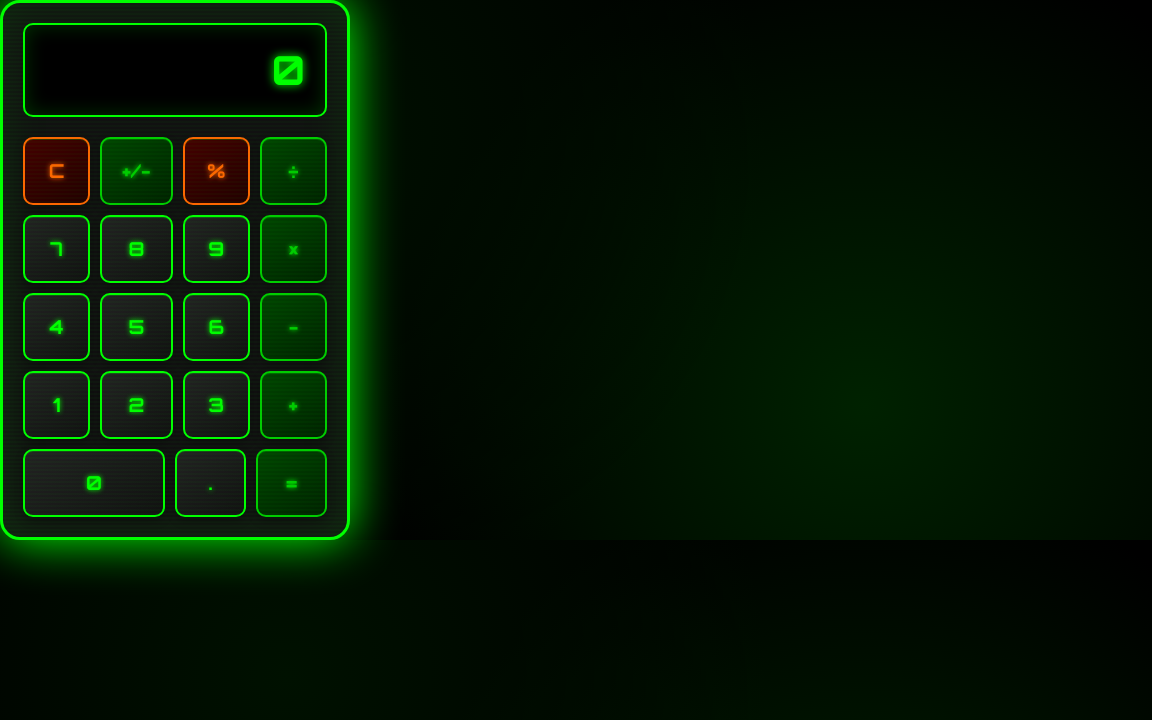
Test case: Calculator Component › handles +/- operation correctly
Click the button "5" at coordinates (136, 327), box x1=100 y1=293 x2=173 y2=361
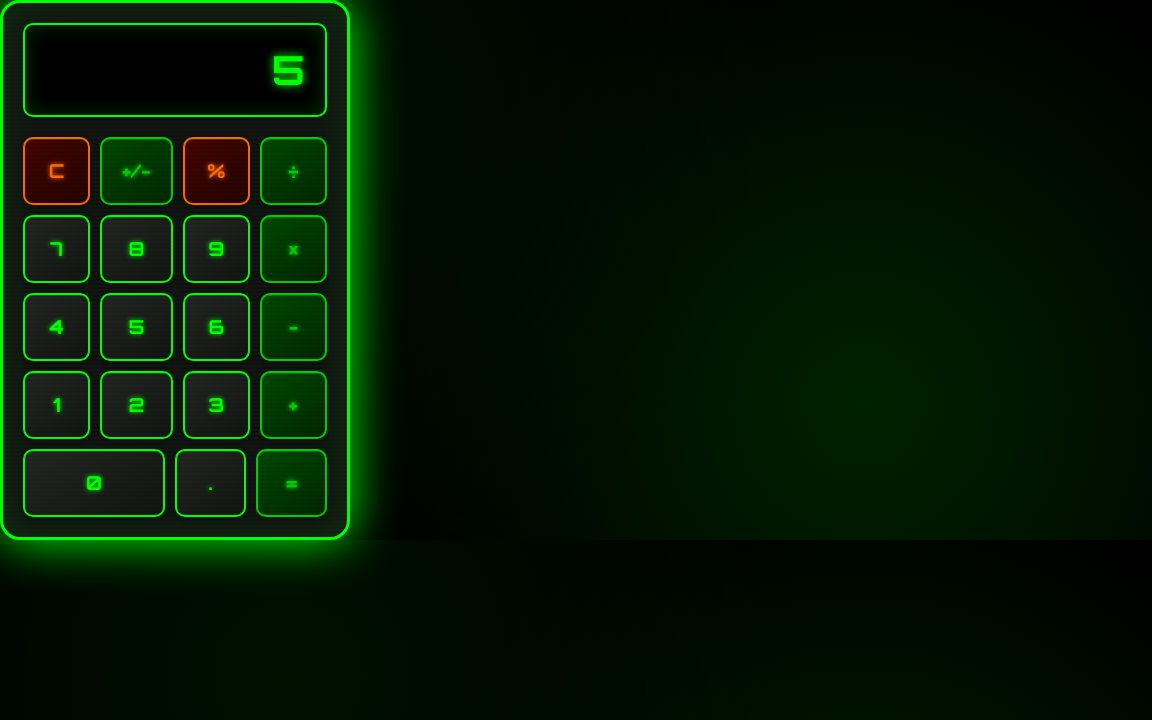
Click the button "+/-" at coordinates (136, 171), box x1=100 y1=137 x2=173 y2=205
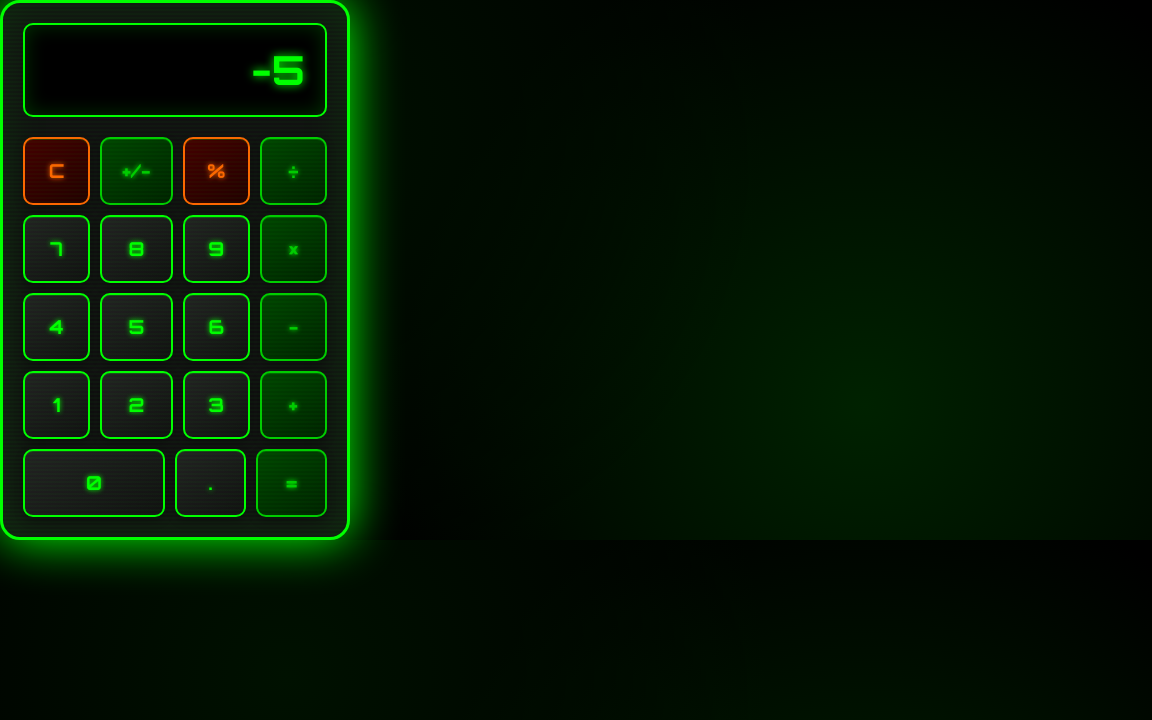
Result: the text with class "display" reads "-5" at x1=251 y1=45 x2=305 y2=95
